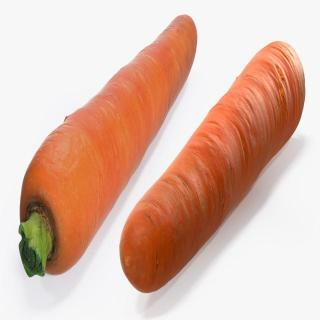carrot: (118, 37, 306, 299), (18, 11, 197, 285)
